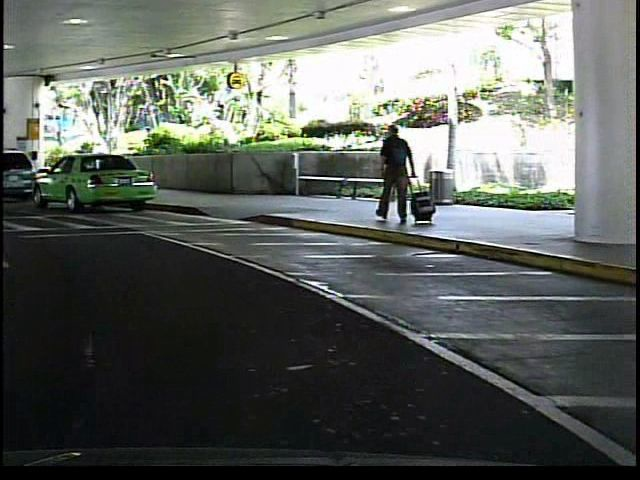person: (371, 114, 417, 231)
